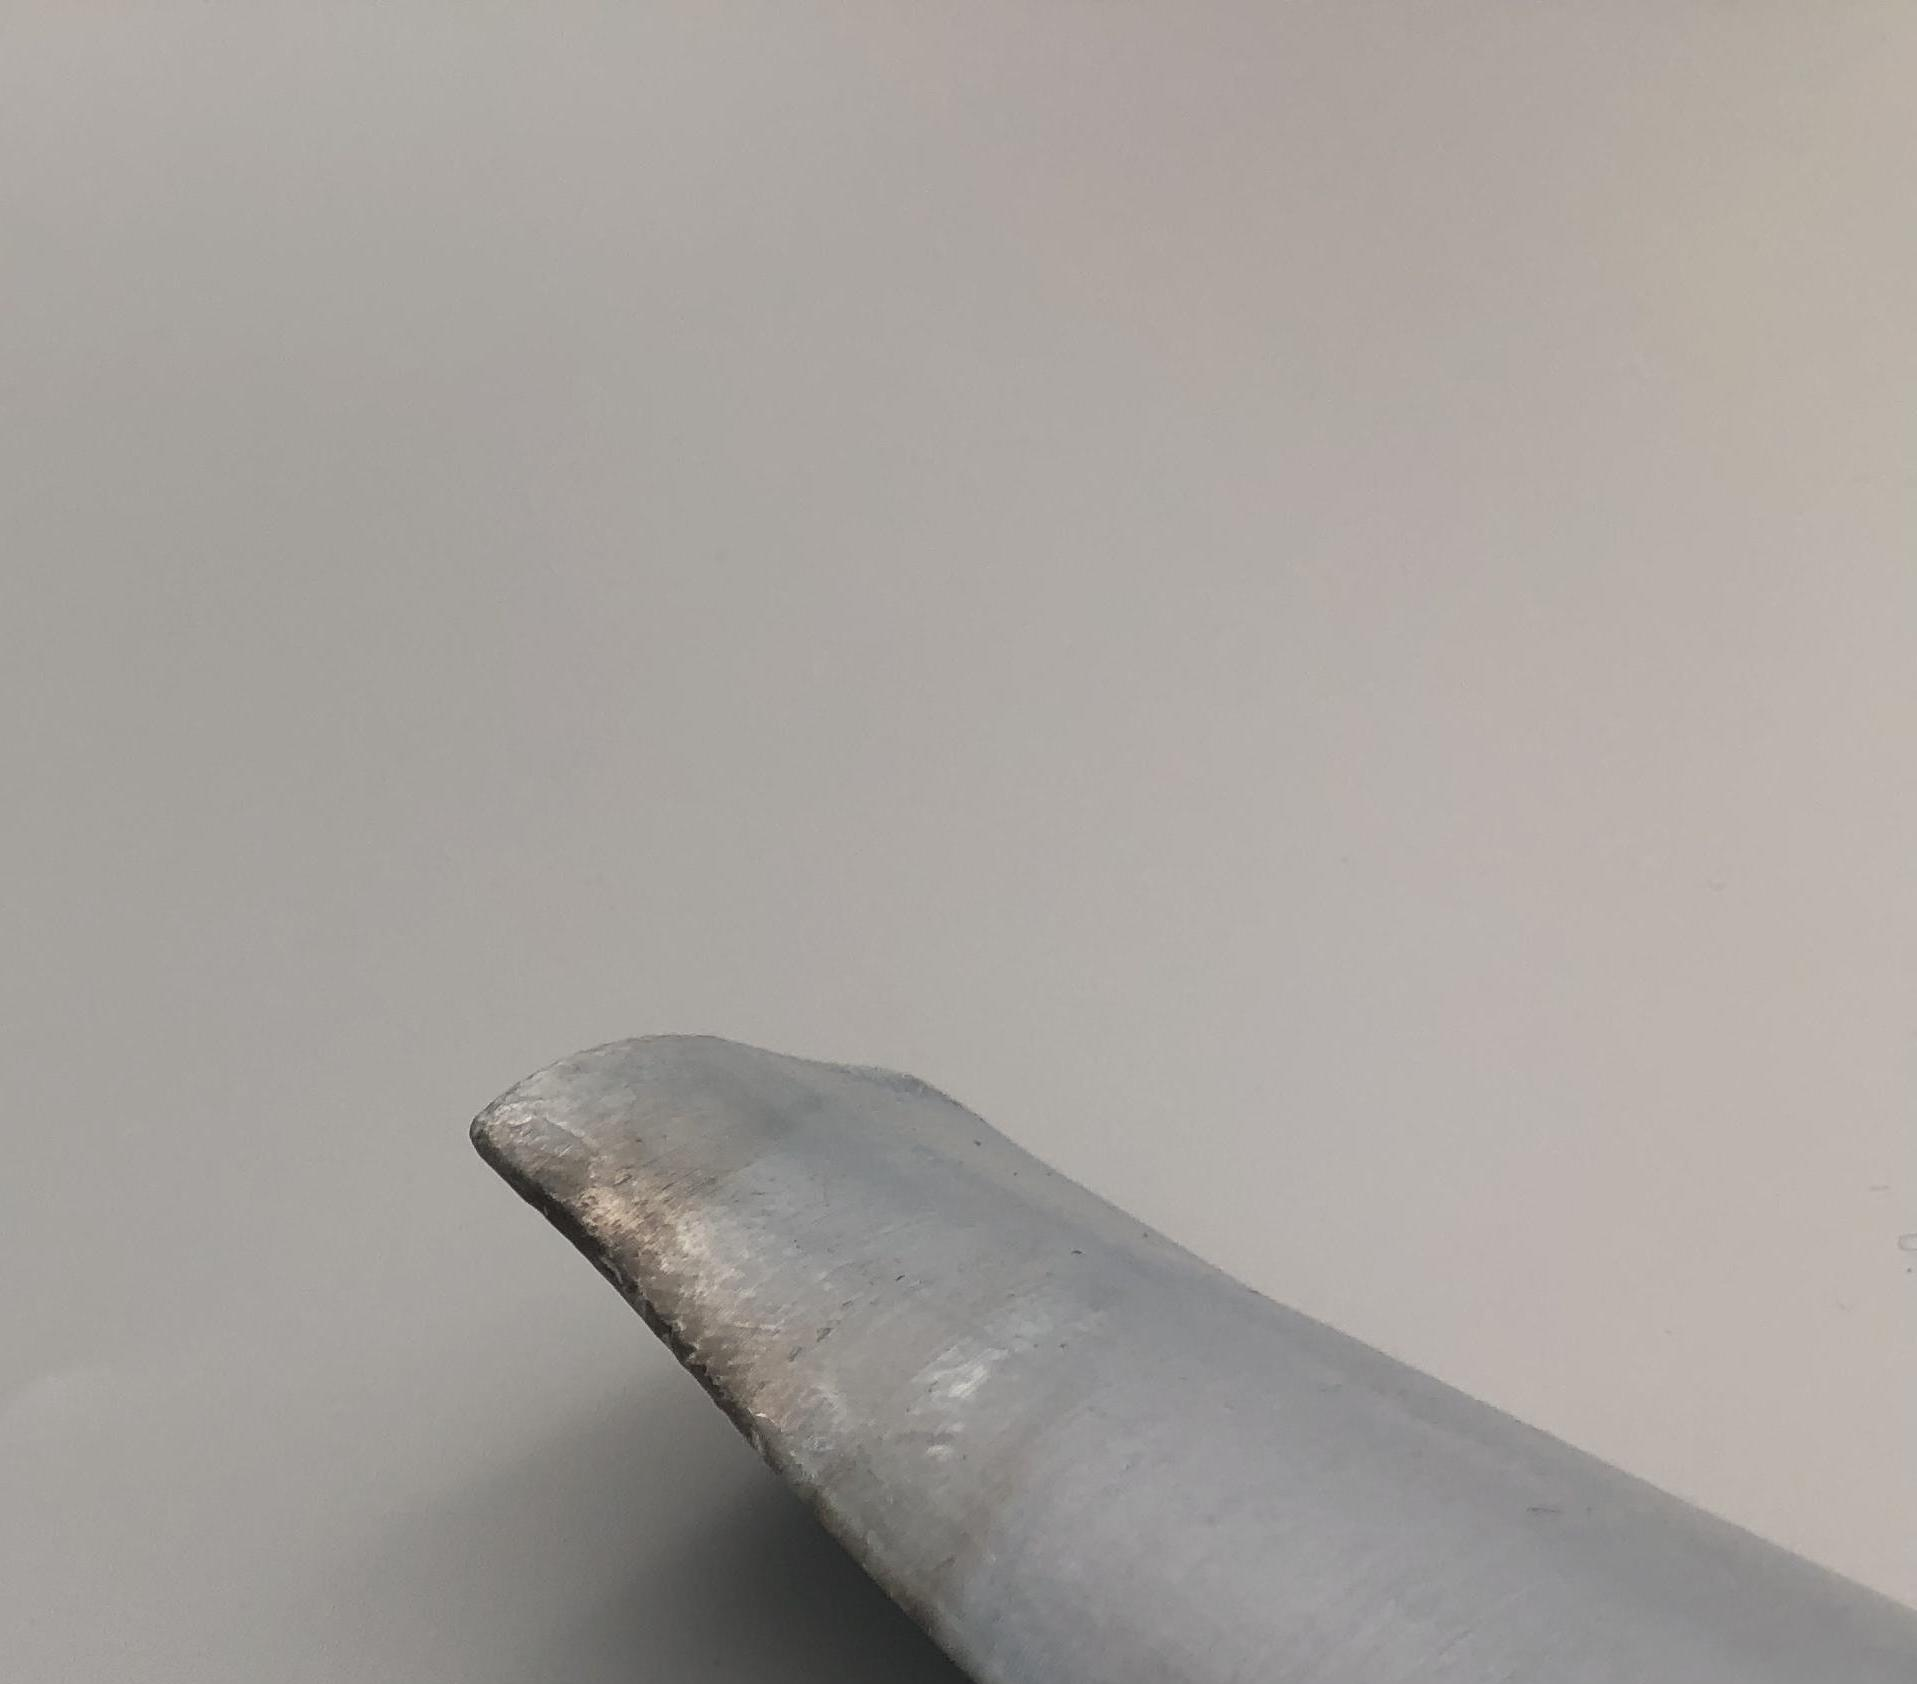ablation: (473, 1122, 823, 1487)
